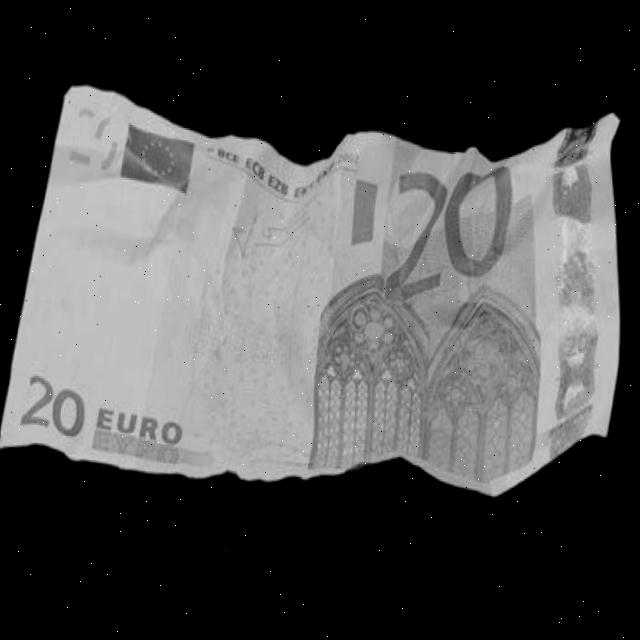banknote: (0, 54, 638, 510), (379, 143, 530, 312), (16, 367, 96, 446), (68, 99, 126, 182)
